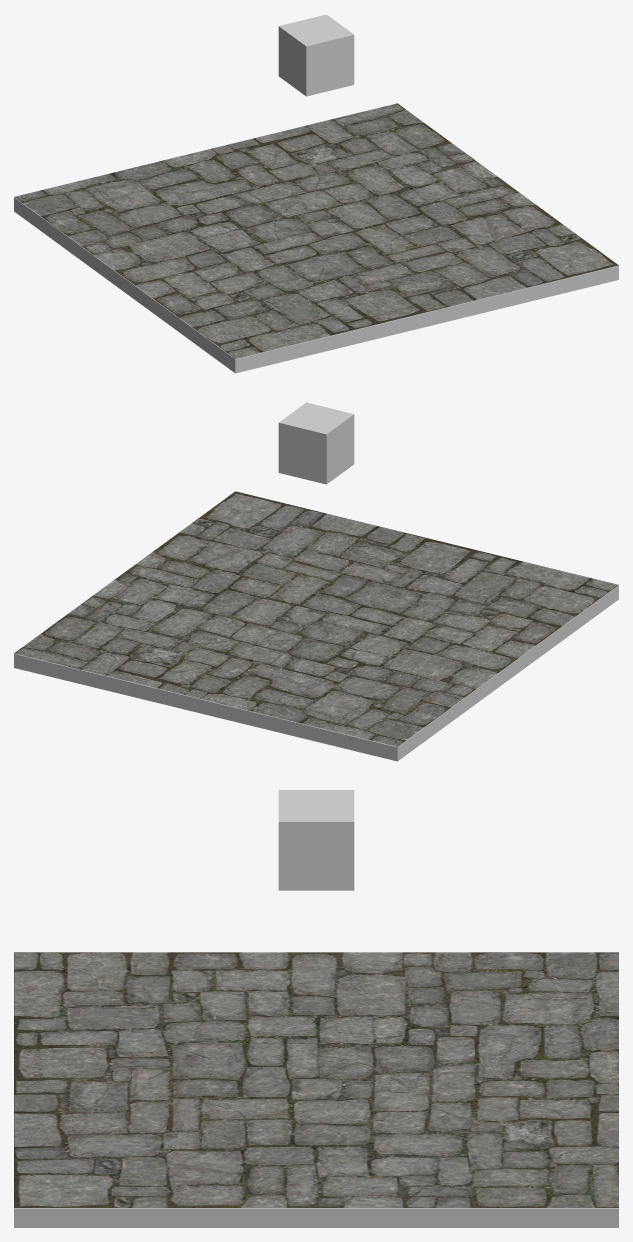
The picture shows the model from 3 angles, top to bottom: view 1: azimuth 30°, elevation 25°; view 2: azimuth 150°, elevation 25°; view 3: azimuth 270°, elevation 25°; orthographic projection. The views are drawn at different scales.
Parts seen in each view (by area): view 1: Ground-sb, Ground-coll, Crate-coll; view 2: Ground-sb, Ground-coll, Crate-coll; view 3: Ground-sb, Ground-coll, Crate-coll.
Boxes of the visible parts, x1=… form: Ground-sb: x1=14, y1=103, x2=618, y2=358; Ground-coll: x1=14, y1=197, x2=618, y2=373; Crate-coll: x1=278, y1=14, x2=354, y2=96; Ground-sb: x1=14, y1=491, x2=618, y2=746; Ground-coll: x1=14, y1=585, x2=618, y2=761; Crate-coll: x1=278, y1=402, x2=354, y2=484; Ground-sb: x1=14, y1=952, x2=618, y2=1207; Ground-coll: x1=14, y1=1208, x2=618, y2=1227; Crate-coll: x1=278, y1=790, x2=354, y2=890.
Bounding box in the file's own units: 16 × 8.58 × 16.
2 materials, 2 textured.
